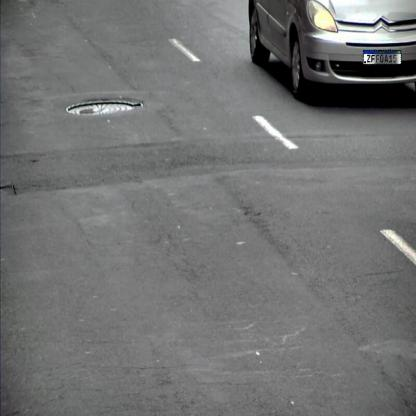PlacaM: (363, 50, 401, 64)
